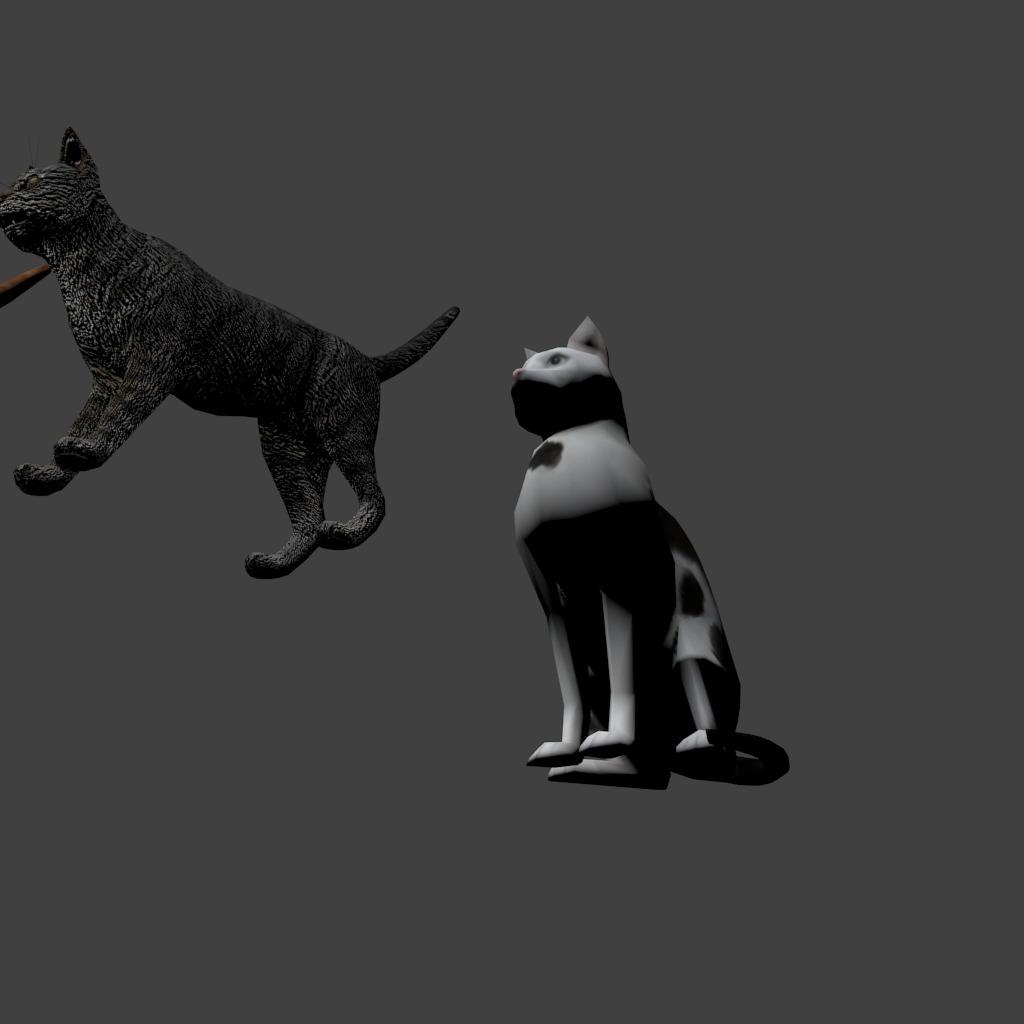Cat: (0, 125, 460, 455), (0, 38, 52, 502)
